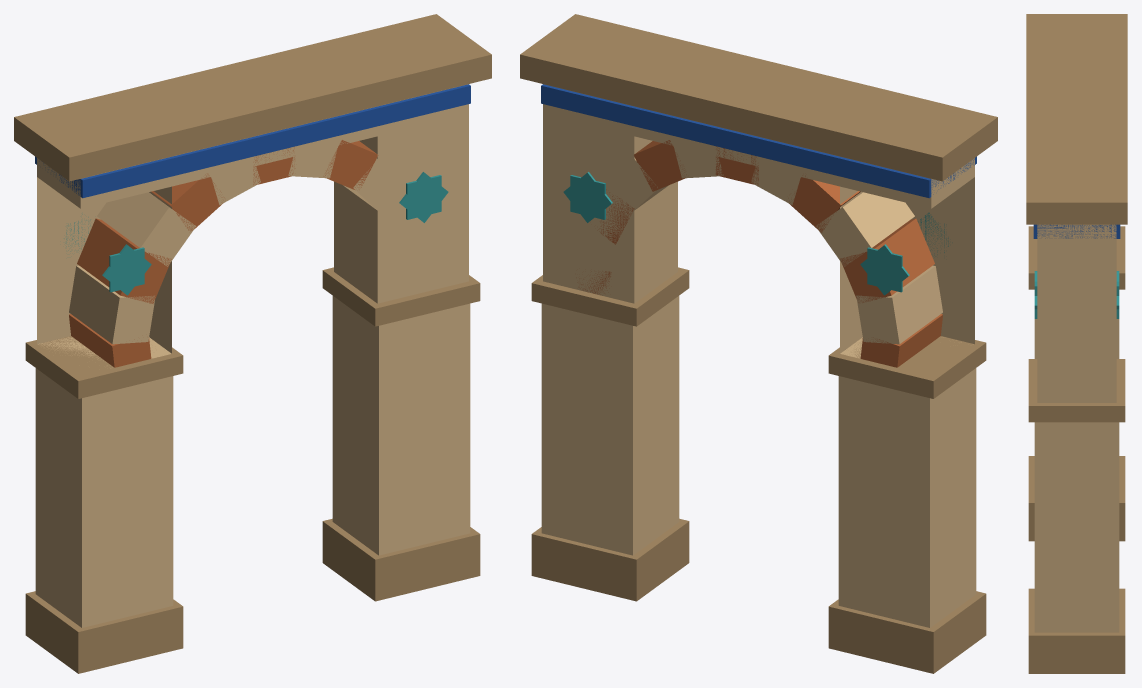
The model's file is dc_ornate_arch.glb.
The picture shows the model from 3 angles, left to right: view 1: azimuth 30°, elevation 25°; view 2: azimuth 150°, elevation 25°; view 3: azimuth 270°, elevation 25°; orthographic projection. The views are drawn at different scales.
Parts seen in each view (by area): view 1: dc_ornate_arch; view 2: dc_ornate_arch; view 3: dc_ornate_arch.
Boxes of the visible parts, <box> form: dc_ornate_arch: <box>14,14,491,673</box>; dc_ornate_arch: <box>520,14,997,673</box>; dc_ornate_arch: <box>1026,14,1127,673</box>.
Bounding box in the file's own units: 3.7 × 4.35 × 0.84.
